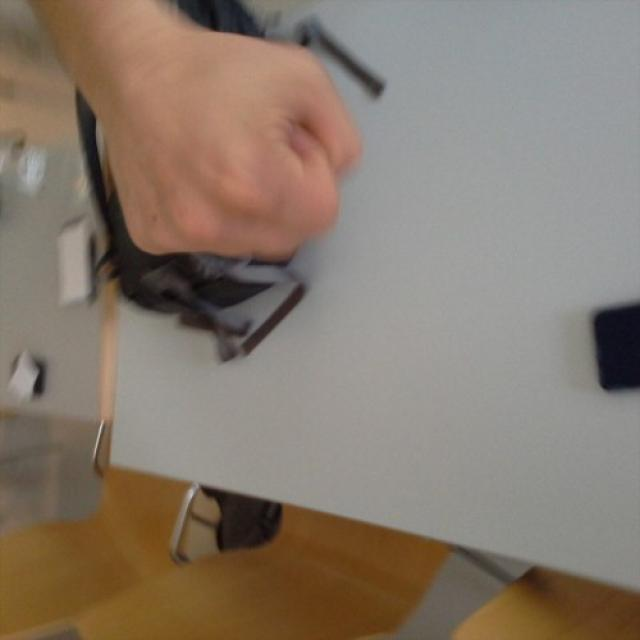fist: (86, 23, 372, 270)
